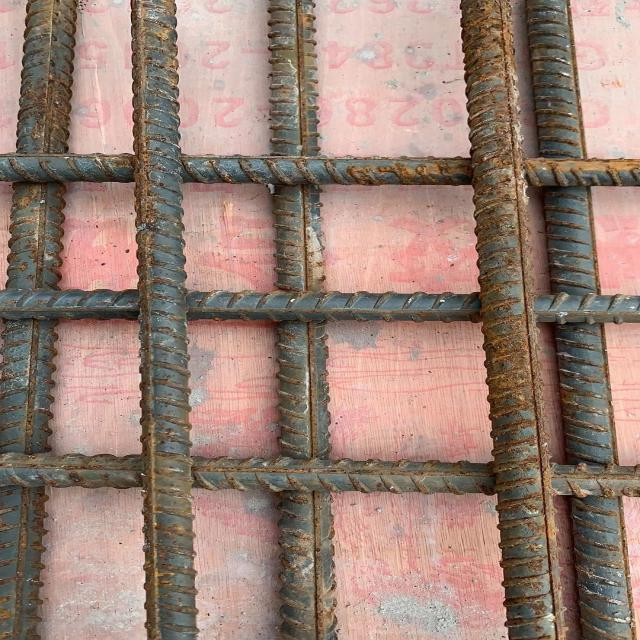ribbed bar: (522, 0, 638, 639), (458, 1, 569, 640), (0, 1, 84, 640), (125, 0, 202, 639), (267, 1, 342, 640), (0, 452, 639, 500), (2, 285, 638, 325), (0, 153, 638, 189)
